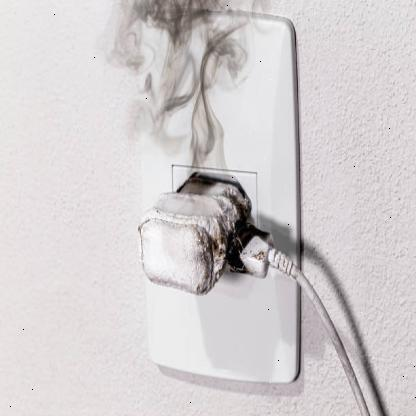smoke: (108, 0, 267, 191)
